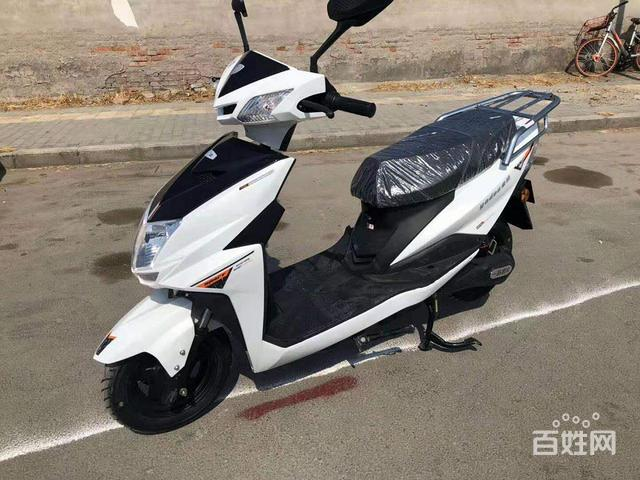电动车: (91, 1, 568, 440)
